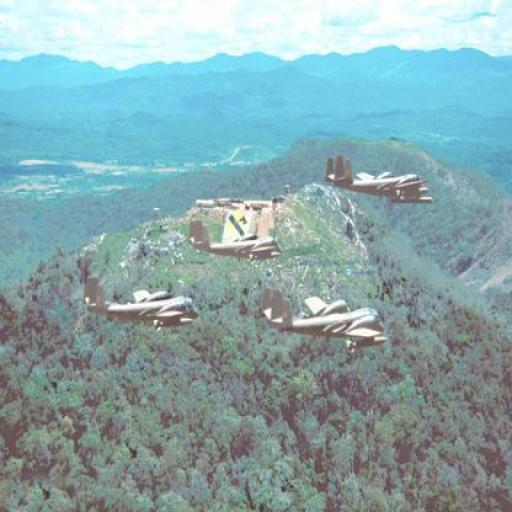aircraft: (262, 288, 389, 346), (85, 277, 197, 327), (324, 152, 433, 202), (189, 219, 280, 260)
